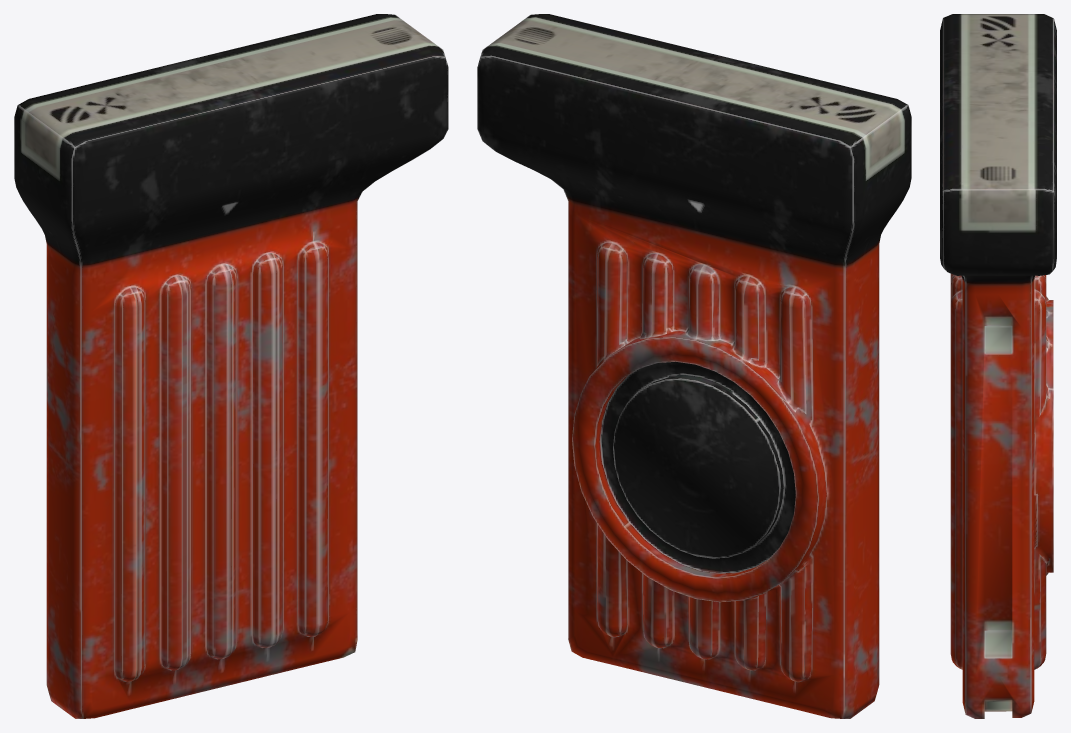
File: datapod_red.glb
3 views of the same model, side by side, from view 1: azimuth 30°, elevation 25°; view 2: azimuth 150°, elevation 25°; view 3: azimuth 270°, elevation 25° (orthographic). The views are drawn at different scales.
Visible parts, largest first — view 1: Blue Pod; view 2: Blue Pod; view 3: Blue Pod.
Boxes of the visible parts, bbox=[...] form: Blue Pod: bbox=[14, 14, 448, 718]; Blue Pod: bbox=[477, 14, 911, 718]; Blue Pod: bbox=[940, 14, 1056, 718].
Size of the model in its own units: 115 by 172 by 31.9.
1 material, 1 textured.
